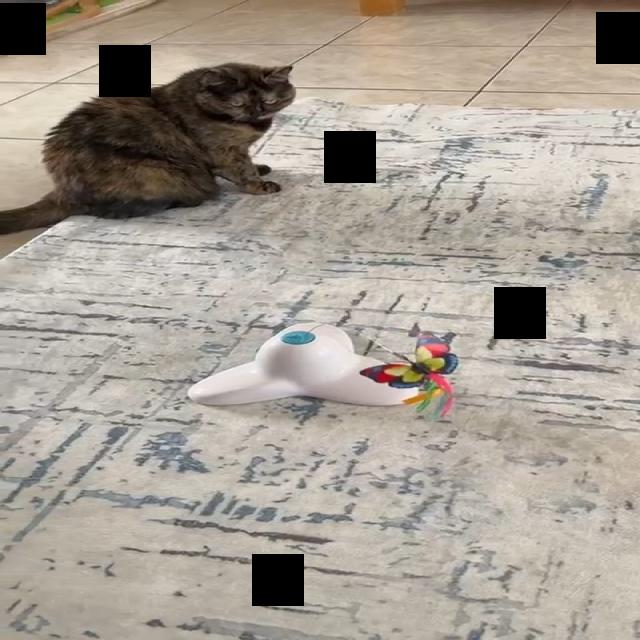authorized: (0, 61, 296, 235)
